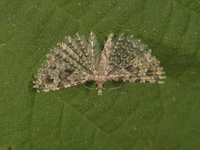Alucitidae: (27, 28, 164, 95)
moth: (29, 30, 166, 97)
